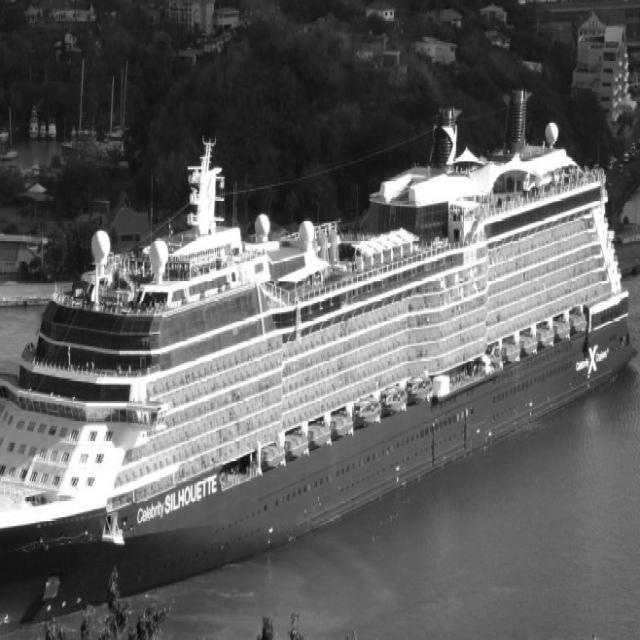cruises: (1, 82, 640, 640)
